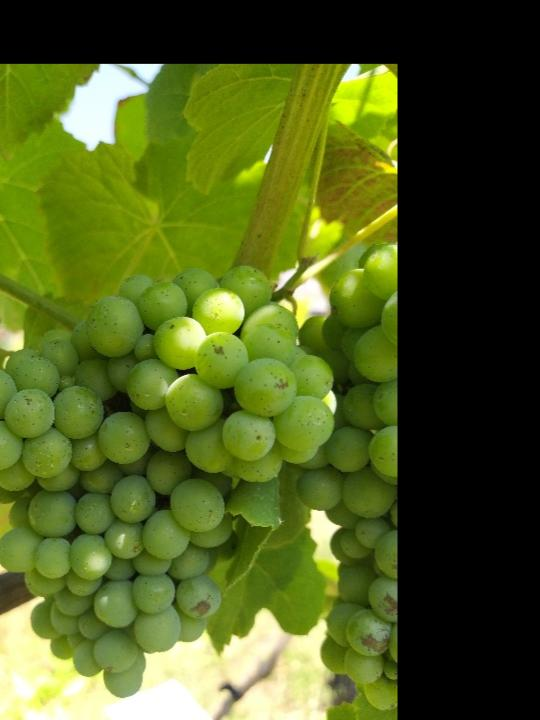grape: (0, 263, 337, 701)
